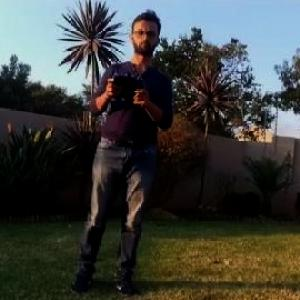follow: (68, 3, 180, 299)
